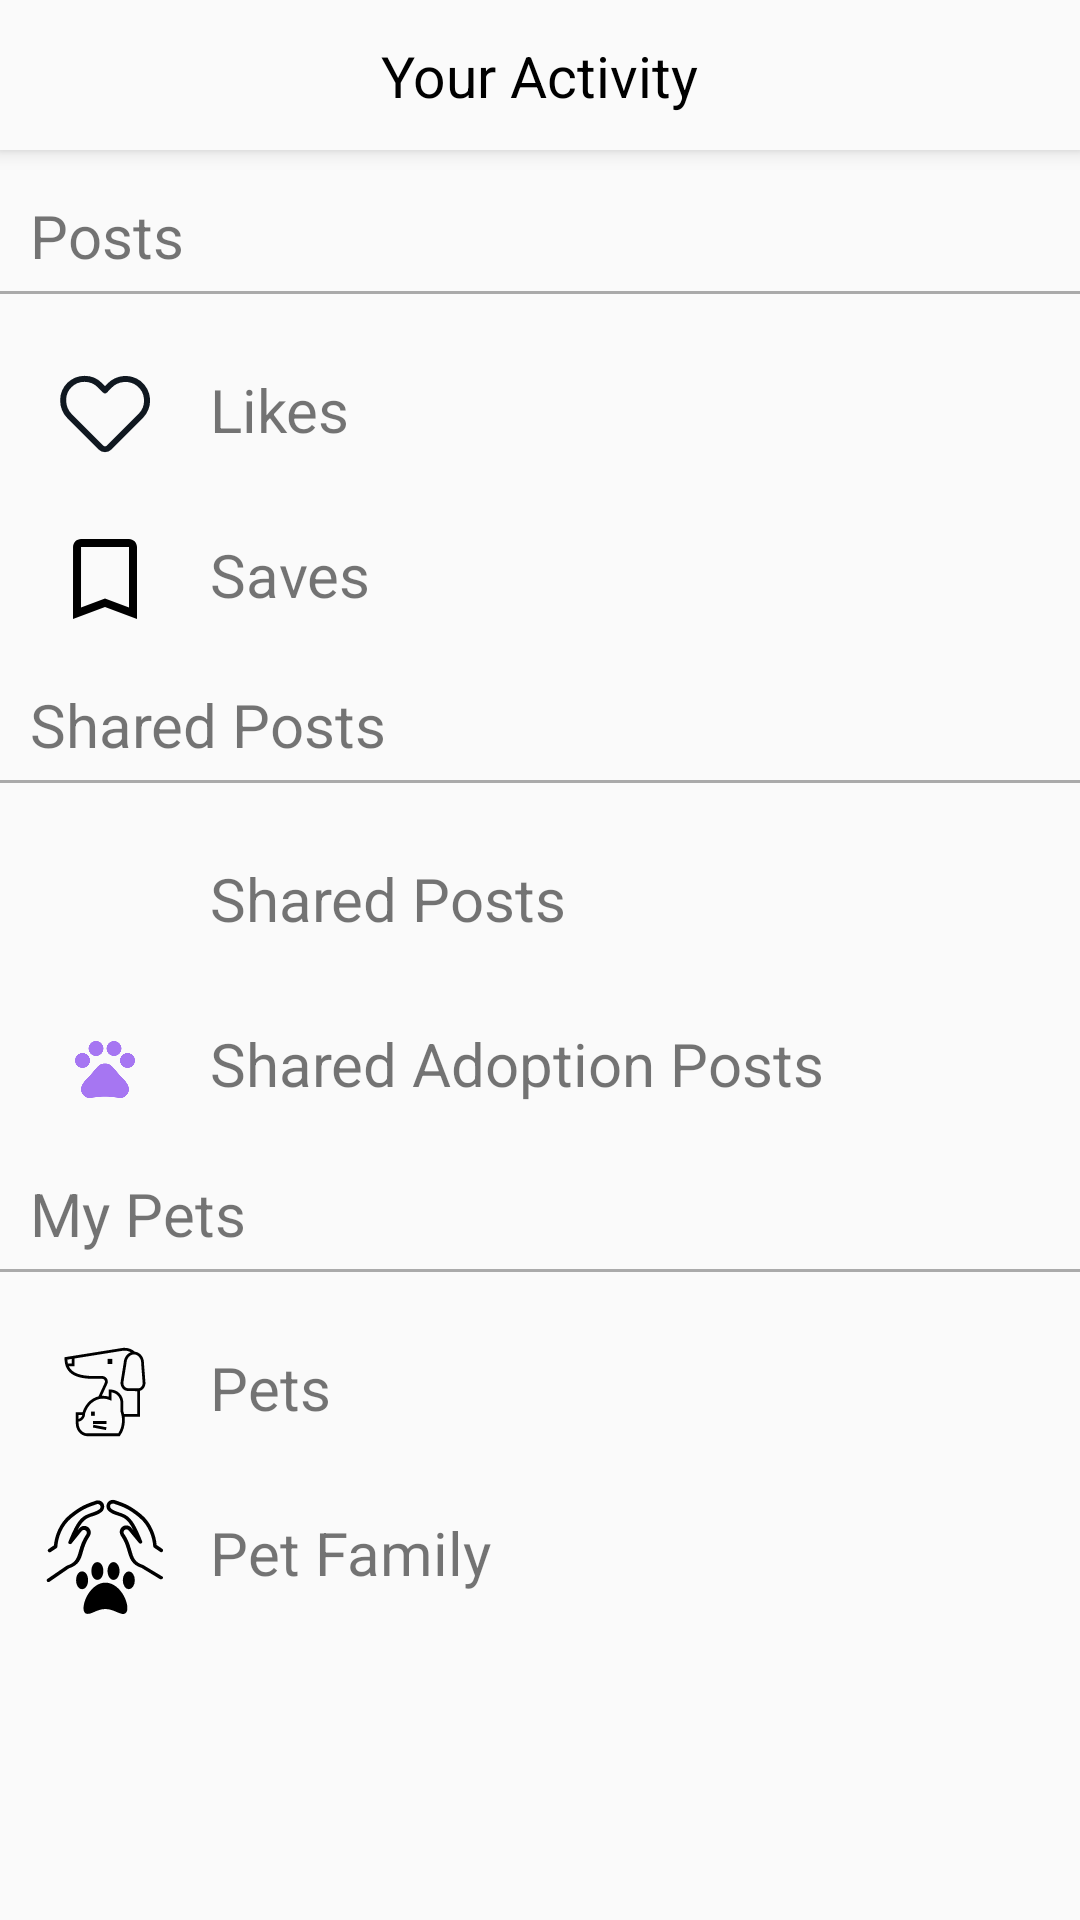

Point at icon controls on the screen. Image size 1080×1920, points as [x,y].
like line: [105,413]
save flag: [105,579]
